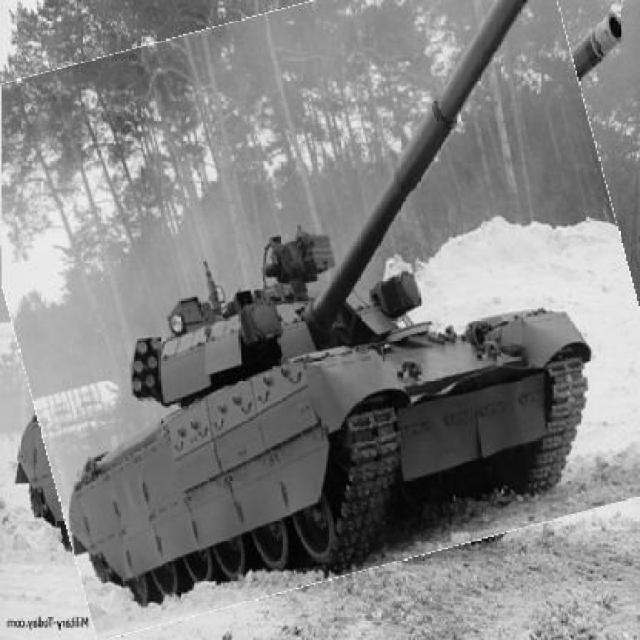Tank: (3, 1, 640, 610)
